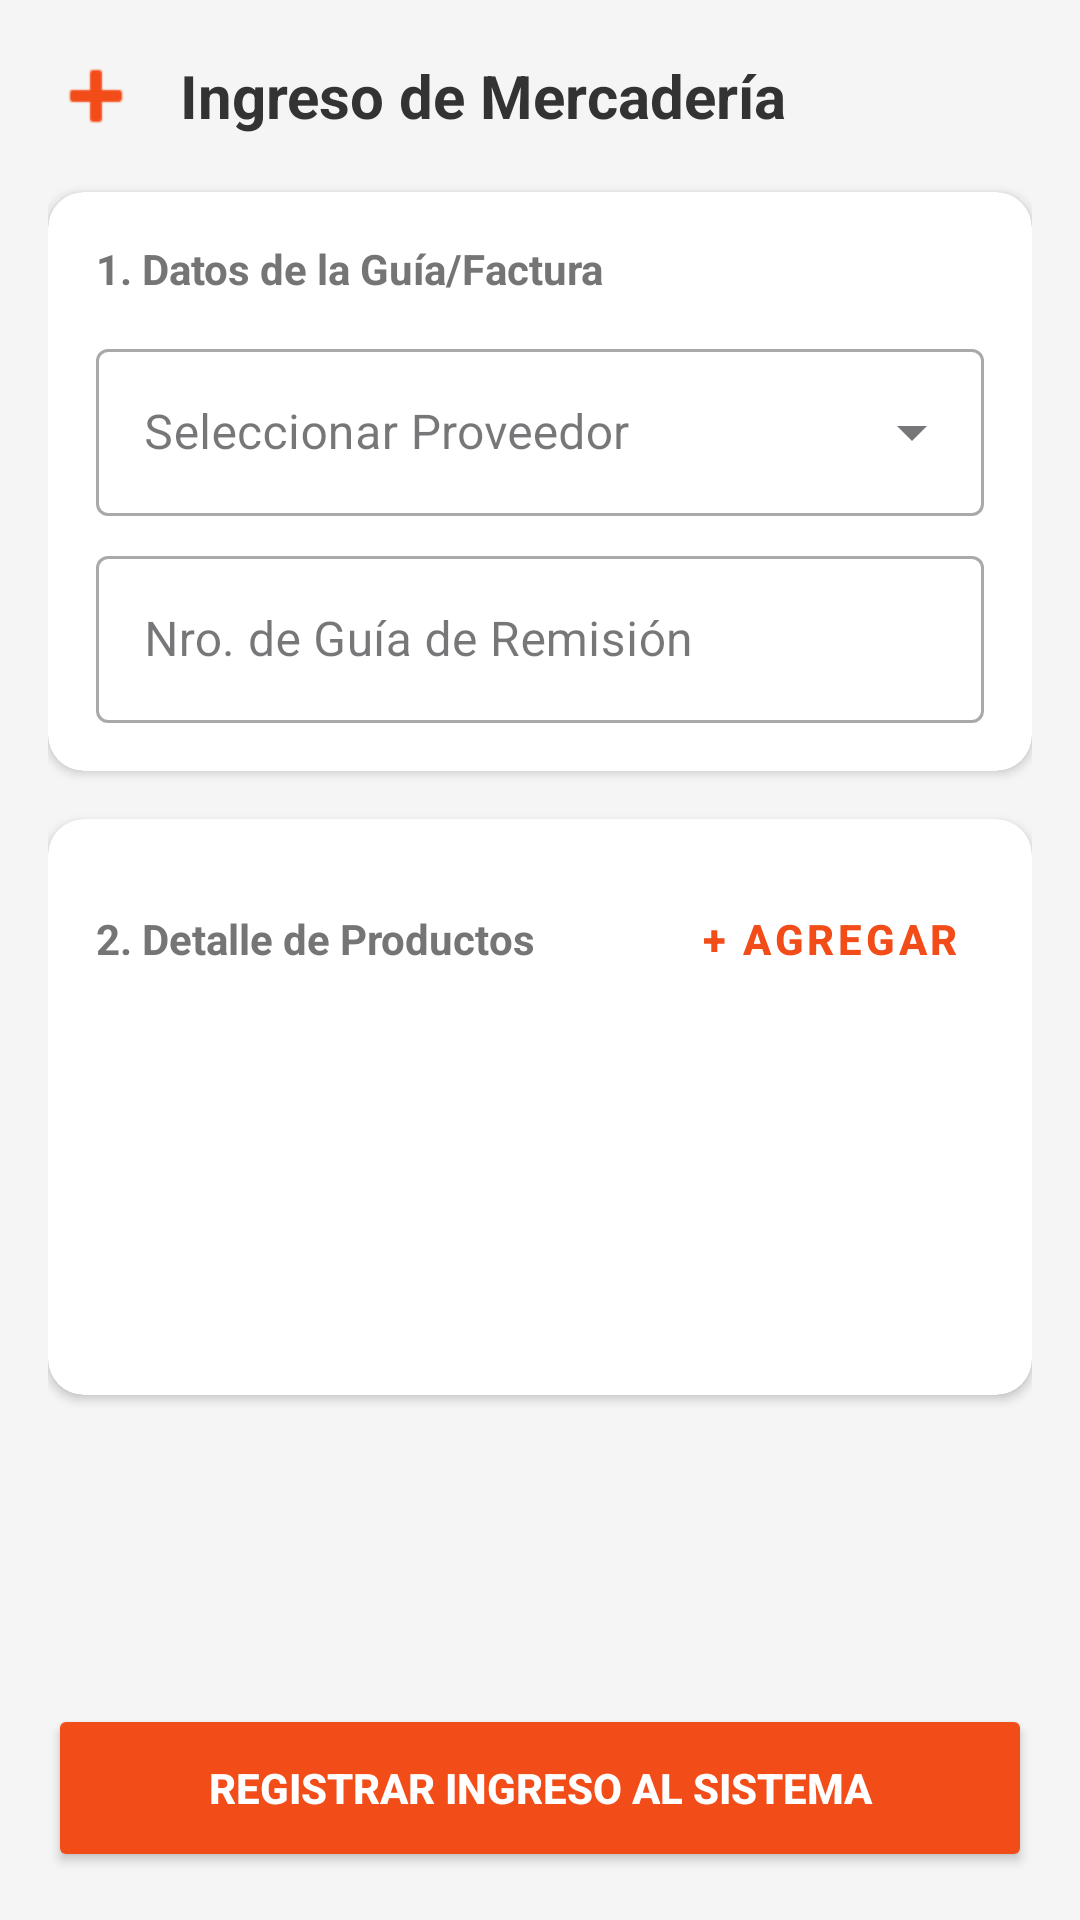

Icon click points for this 1080*1920 phone screenshot, format (x=x, y=y):
add: (x=96, y=96)
